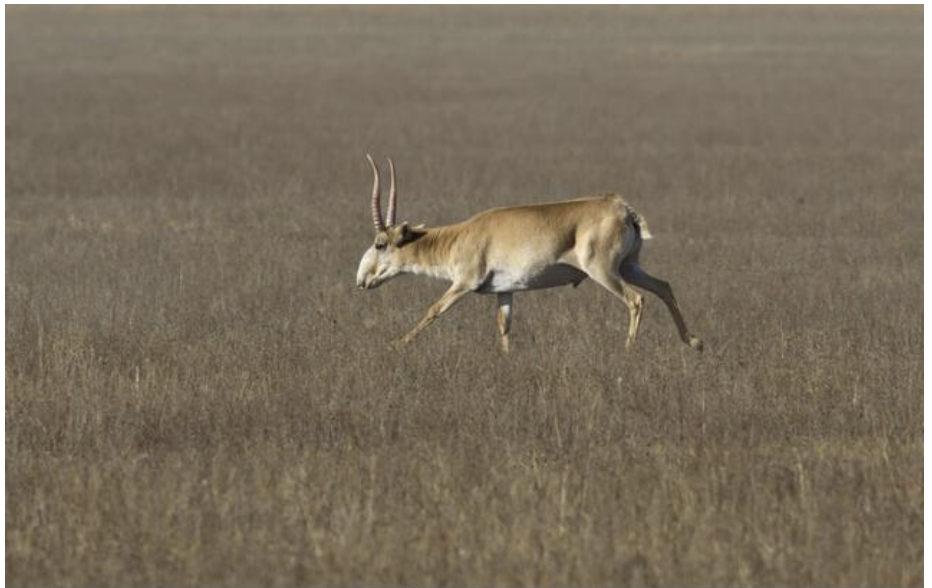saiga: (353, 147, 720, 354)
